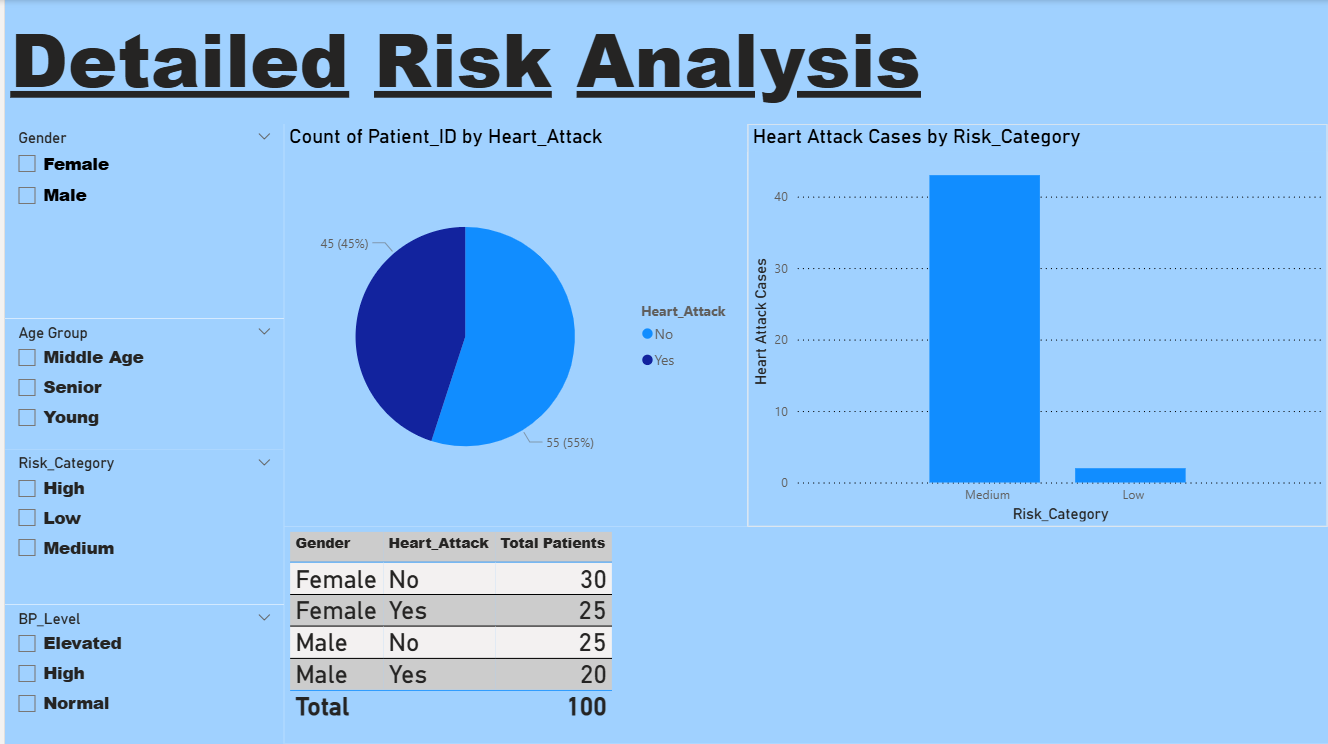

This screenshot's page, from the dashboard's own definition file:
{"tool":"powerbi","page":{"name":"Page 2","canvas":[1280,720],"ordinal":1},"visuals":[{"type":"pieChart","fields":{"Y":["CountNonNull(Heart_Attack_Data.Patient_ID)"],"Category":["Heart_Attack_Data.Heart_Attack"]},"box":[270,120,448.3,390],"z":0},{"type":"tableEx","fields":{"Values":["Heart_Attack_Data.Gender","Heart_Attack_Data.Heart_Attack","Heart_Attack_Data.Total Patients"]},"box":[270,510,1010,210],"z":1000},{"type":"slicer","fields":{"Values":["Heart_Attack_Data.Risk_Category"]},"box":[0,435,270,150],"z":2000},{"type":"slicer","fields":{"Values":["Heart_Attack_Data.Gender"]},"box":[0,120,270,188.3],"z":3000},{"type":"slicer","fields":{"Values":["Heart_Attack_Data.Age_Group"]},"box":[0,308.3,270,126.7],"z":4000},{"type":"slicer","fields":{"Values":["Heart_Attack_Data.BP_Level"]},"box":[0,585,270,135],"z":5000},{"type":"clusteredColumnChart","fields":{"Category":["Heart_Attack_Data.Risk_Category"],"Y":["Heart_Attack_Data.Heart Attack Cases"]},"box":[718.3,120,561.7,390],"z":6000},{"type":"textbox","box":[0,0,1280,120],"z":7000}]}

Visuals, with their boxes in screenshot pixels (x1, y1, x2, y2), scaled from the page's 1280x720 canvas onto the 1328x744 screenshot:
pieChart - CountNonNull(Heart_Attack_Data.Patient_ID) x Heart_Attack_Data.Heart_Attack: crop(280, 124, 745, 527)
tableEx - Heart_Attack_Data.Gender x Heart_Attack_Data.Heart_Attack: crop(280, 527, 1327, 743)
slicer - Heart_Attack_Data.Risk_Category: crop(0, 450, 280, 605)
slicer - Heart_Attack_Data.Gender: crop(0, 124, 280, 319)
slicer - Heart_Attack_Data.Age_Group: crop(0, 319, 280, 450)
slicer - Heart_Attack_Data.BP_Level: crop(0, 605, 280, 743)
clusteredColumnChart - Heart_Attack_Data.Risk_Category x Heart_Attack_Data.Heart Attack Cases: crop(745, 124, 1327, 527)
textbox: crop(0, 0, 1327, 124)
